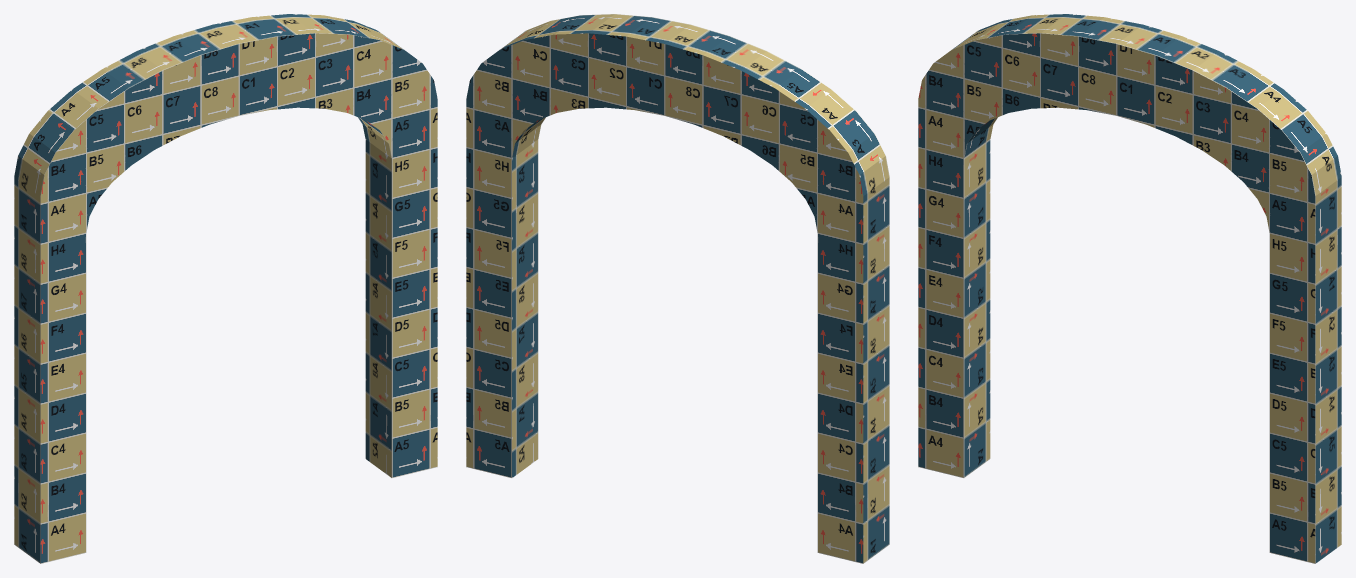
The model's file is ARCH_Segmental.fbx.
The picture shows the model from 3 angles, left to right: view 1: azimuth 30°, elevation 25°; view 2: azimuth 150°, elevation 25°; view 3: azimuth 330°, elevation 25°; orthographic projection.
Parts seen in each view (by area): view 1: ARCH_Segmental; view 2: ARCH_Segmental; view 3: ARCH_Segmental.
Boxes of the visible parts, x1,y1,x2,y2 form: ARCH_Segmental: [14, 14, 437, 563]; ARCH_Segmental: [466, 14, 889, 563]; ARCH_Segmental: [918, 14, 1341, 563].
Bounding box in the file's own units: 260 × 295 × 30.
Materials: 1 (1 with a texture image).
